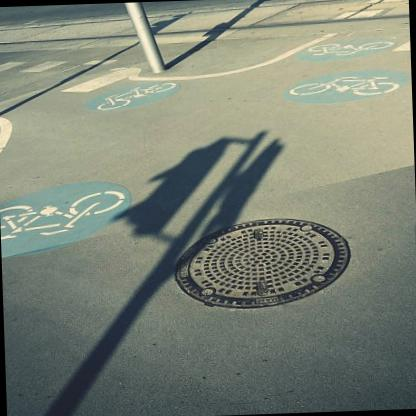manholes: (162, 198, 360, 326)
